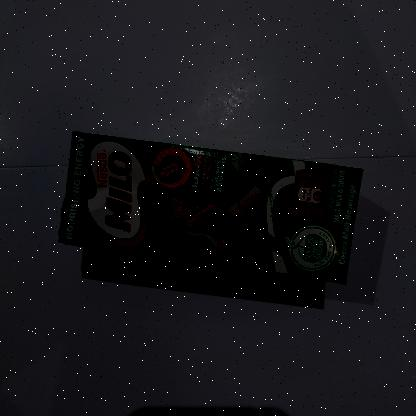Others: (59, 132, 362, 283)
